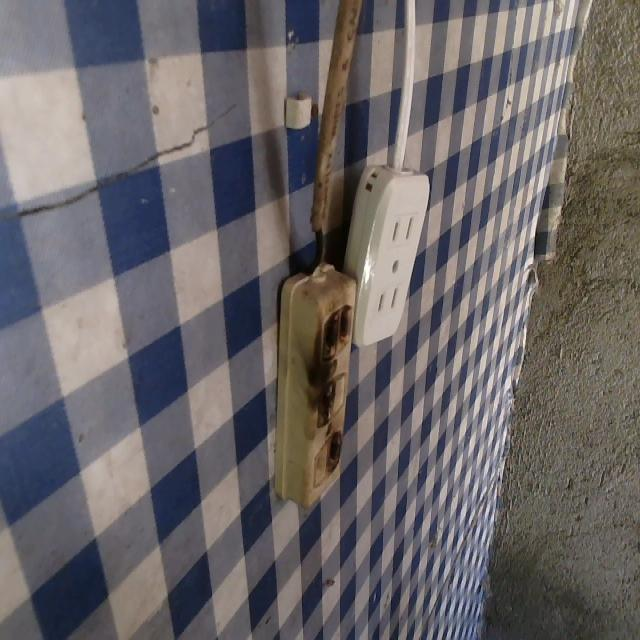-: (311, 300, 355, 355), (311, 375, 337, 428), (324, 424, 343, 476)
